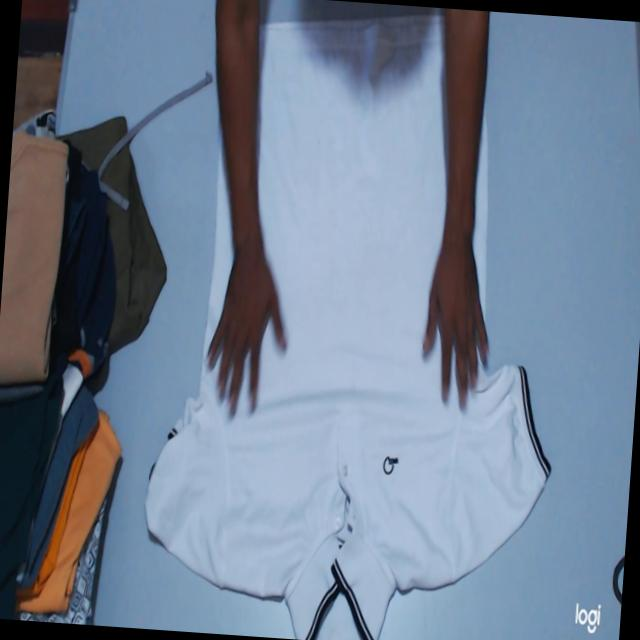new-garment: (145, 17, 549, 640), (145, 18, 548, 640), (202, 166, 233, 357), (469, 123, 487, 306)
